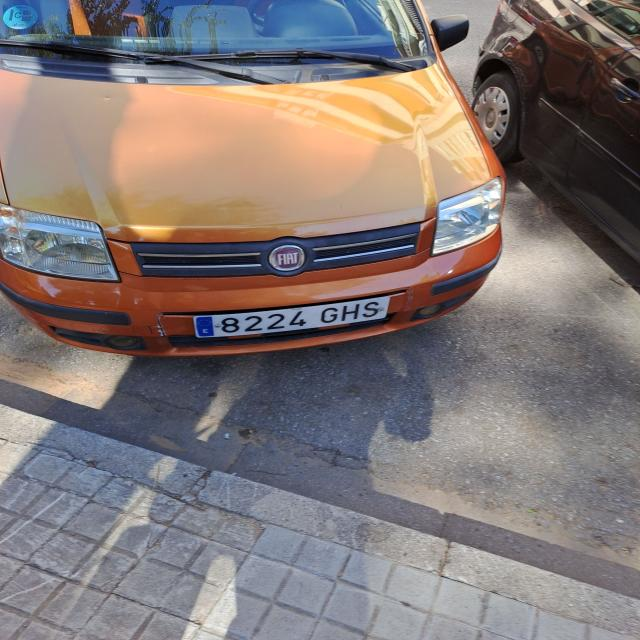license_plate-34Td: (193, 296, 390, 338)
